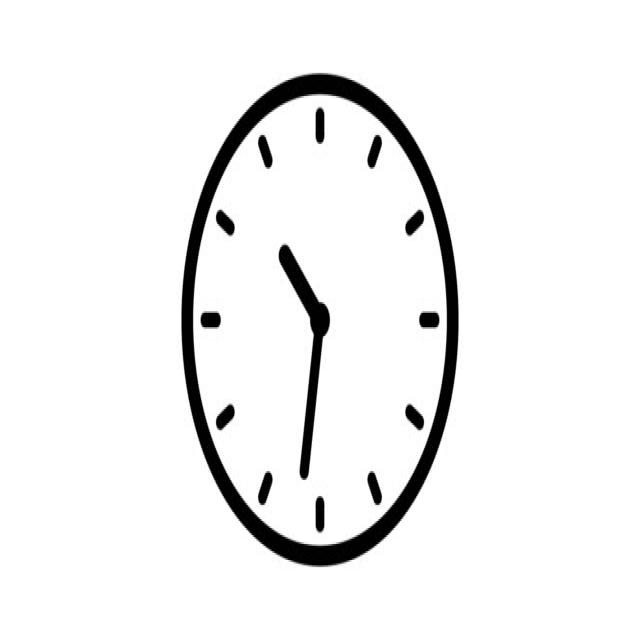clock: (119, 67, 479, 579)
